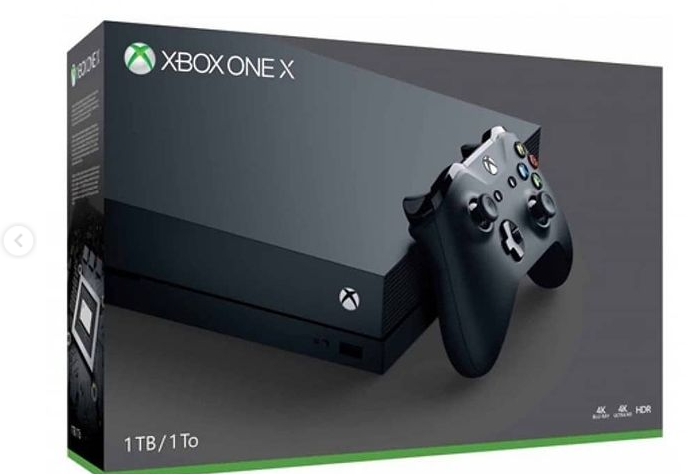gamingconsole: (402, 127, 574, 381)
